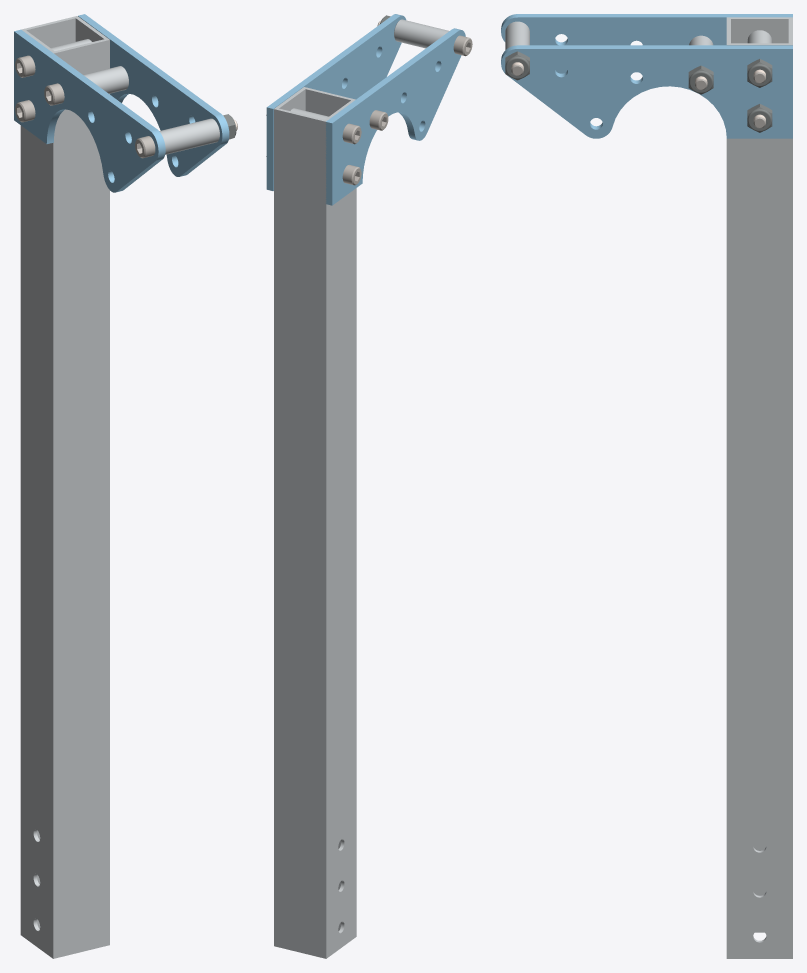
3 views of the same model, side by side, from view 1: azimuth 30°, elevation 25°; view 2: azimuth 150°, elevation 25°; view 3: azimuth 270°, elevation 25° (orthographic). The views are drawn at different scales.
Visible parts, largest first — view 1: 1x1 Simple Example Tube, Cheese wedge (×2), am-3876 1000long .192ID Aluminum Spacer (×2); view 2: 1x1 Simple Example Tube, Cheese wedge (×2), am-3876 1000long .192ID Aluminum Spacer; view 3: 1x1 Simple Example Tube, Cheese wedge (×2).
Boxes of the visible parts, x1,y1,x2,y2 form: 1x1 Simple Example Tube: (20, 16, 109, 958); Cheese wedge (×2): (14, 14, 229, 192); am-3876 1000long .192ID Aluminum Spacer (×2): (83, 66, 219, 154); 1x1 Simple Example Tube: (274, 87, 356, 958); Cheese wedge (×2): (266, 14, 465, 205); am-3876 1000long .192ID Aluminum Spacer: (394, 19, 449, 48); 1x1 Simple Example Tube: (726, 17, 792, 958); Cheese wedge (×2): (501, 14, 792, 138).
Bounding box in the file's own units: 0.0429 × 0.3874 × 0.1121.
